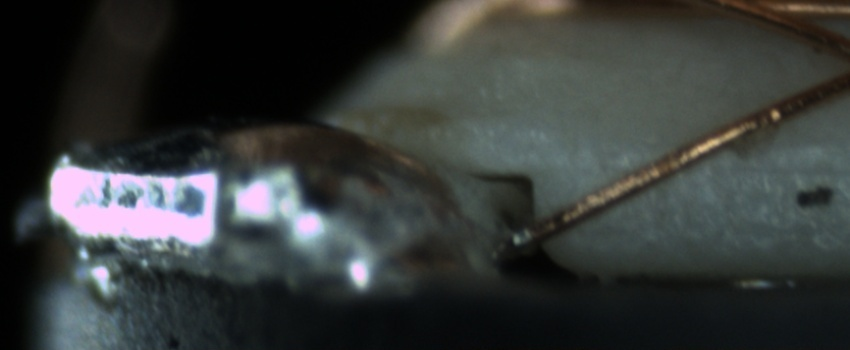CL: (829, 33, 850, 94)
DL: (576, 132, 841, 198)
